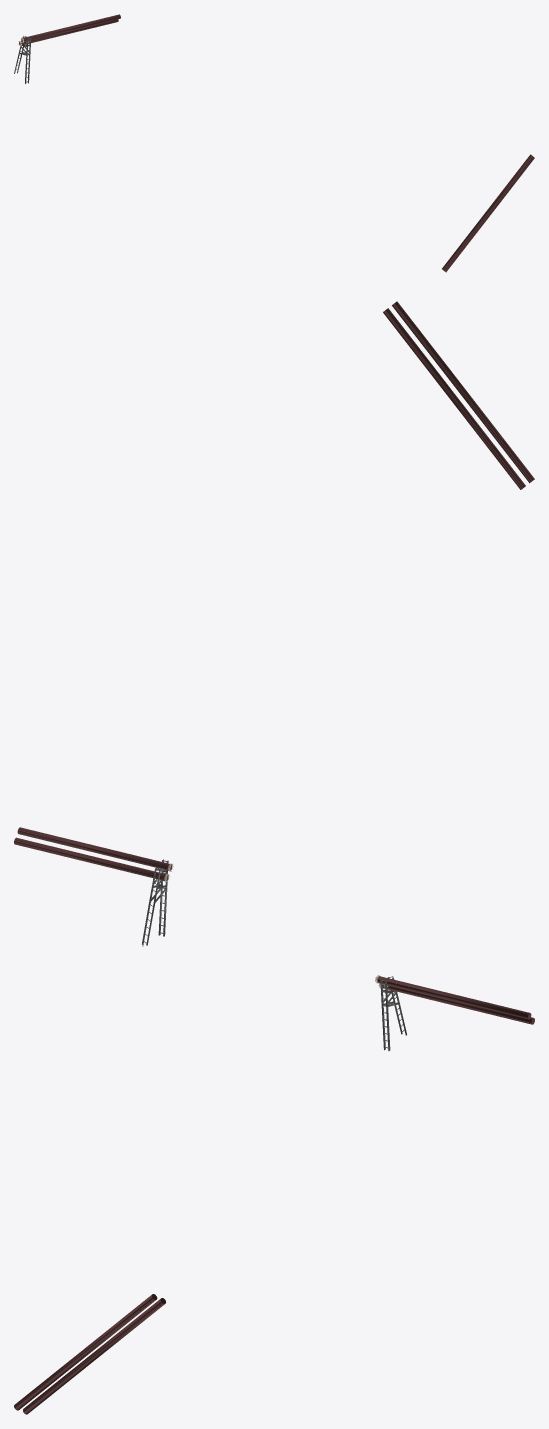
The model's file is pipeline_structure_02_100m_straight_a.glb.
3 renders of one model, top to bottom at view 1: azimuth 30°, elevation 25°; view 2: azimuth 150°, elevation 25°; view 3: azimuth 330°, elevation 25°, orthographic. The views are drawn at different scales.
Size of the model in its own units: 193 by 123 by 606.
